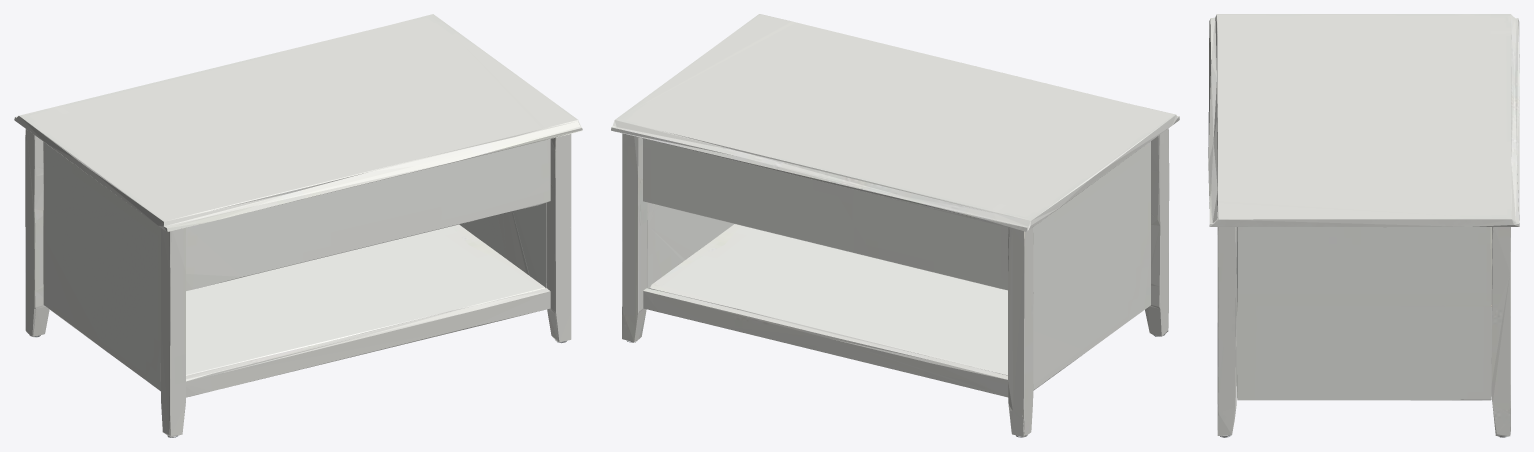
The picture shows the model from 3 angles, left to right: view 1: azimuth 30°, elevation 25°; view 2: azimuth 150°, elevation 25°; view 3: azimuth 270°, elevation 25°; orthographic projection.
Visible parts, largest first — view 1: 9cf811a0-b0d1-4d42-b271-c959f2eeb567; view 2: 9cf811a0-b0d1-4d42-b271-c959f2eeb567; view 3: 9cf811a0-b0d1-4d42-b271-c959f2eeb567.
Boxes of the visible parts, x1,y1,x2,y2 form: 9cf811a0-b0d1-4d42-b271-c959f2eeb567: (14, 14, 582, 437); 9cf811a0-b0d1-4d42-b271-c959f2eeb567: (611, 14, 1179, 437); 9cf811a0-b0d1-4d42-b271-c959f2eeb567: (1208, 14, 1519, 437).
Size of the model in its own units: 0.97 by 0.49 by 0.6199.
1 material, 1 textured.
